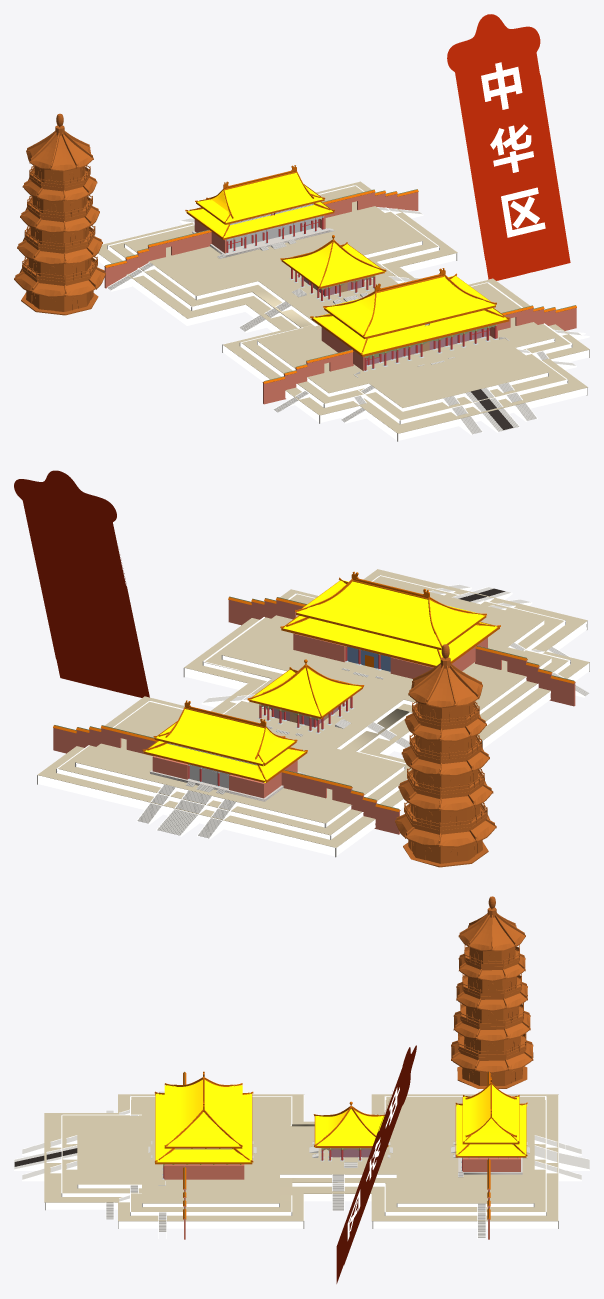
3 views of the same model, one above another, from view 1: azimuth 30°, elevation 25°; view 2: azimuth 150°, elevation 25°; view 3: azimuth 270°, elevation 25° (orthographic). The views are drawn at different scales.
Visible parts, largest first — view 1: object 3, 贝塞尔曲线.017, object 1, object 2, GN Instance, Shape03, Shape02, Shape04, Line1961.001, Shape01, Line1996.001, Line3042 (+6 smaller); view 2: object 3, 贝塞尔曲线.017, object 1, object 2, Line3043, Shape03, Shape02, Shape04, Line1961.001, Line1996.001, Loft01, Shape01 (+11 smaller); view 3: object 3, object 1, object 2, 贝塞尔曲线.017, Line2115, Line2294, Loft02, Rectangle06, Line1996.001, Loft41, Line1961.001, Rectangle14 (+7 smaller).
Part boxes in pixels (box(x1,y1,x2,y2)): object 3: box(98, 181, 589, 433); 贝塞尔曲线.017: box(447, 14, 570, 280); object 1: box(14, 113, 105, 315); object 2: box(198, 172, 507, 354); GN Instance: box(481, 62, 545, 237); Shape03: box(104, 232, 211, 288); Shape02: box(263, 352, 353, 404); Shape04: box(325, 192, 418, 217); Line1961.001: box(320, 242, 384, 286); Shape01: box(498, 308, 576, 330); Line1996.001: box(283, 243, 379, 288); Line3042: box(398, 388, 586, 440); object 3: box(37, 569, 589, 847); 贝塞尔曲线.017: box(14, 470, 149, 697); object 1: box(395, 644, 496, 867); object 2: box(145, 580, 496, 780); Line3043: box(38, 775, 334, 856); Shape03: box(281, 772, 399, 834); Shape02: box(475, 649, 575, 706); Shape04: box(53, 728, 156, 756); Line1961.001: box(249, 668, 320, 716); Line1996.001: box(253, 667, 361, 718); Loft01: box(429, 600, 484, 649); Shape01: box(228, 600, 303, 625); object 3: box(44, 1094, 558, 1221); object 1: box(451, 896, 533, 1088); object 2: box(155, 1079, 526, 1160); 贝塞尔曲线.017: box(336, 1045, 416, 1283); Line2115: box(118, 1221, 303, 1228); Line2294: box(373, 1221, 557, 1228); Loft02: box(167, 1112, 242, 1147); Rectangle06: box(164, 1164, 244, 1179); Line1996.001: box(315, 1109, 375, 1147); Loft41: box(156, 1149, 251, 1162); Line1961.001: box(315, 1110, 384, 1144); Rectangle14: box(462, 1157, 520, 1171).
Size of the model in its own units: 3.75 by 1.73 by 4.12.
